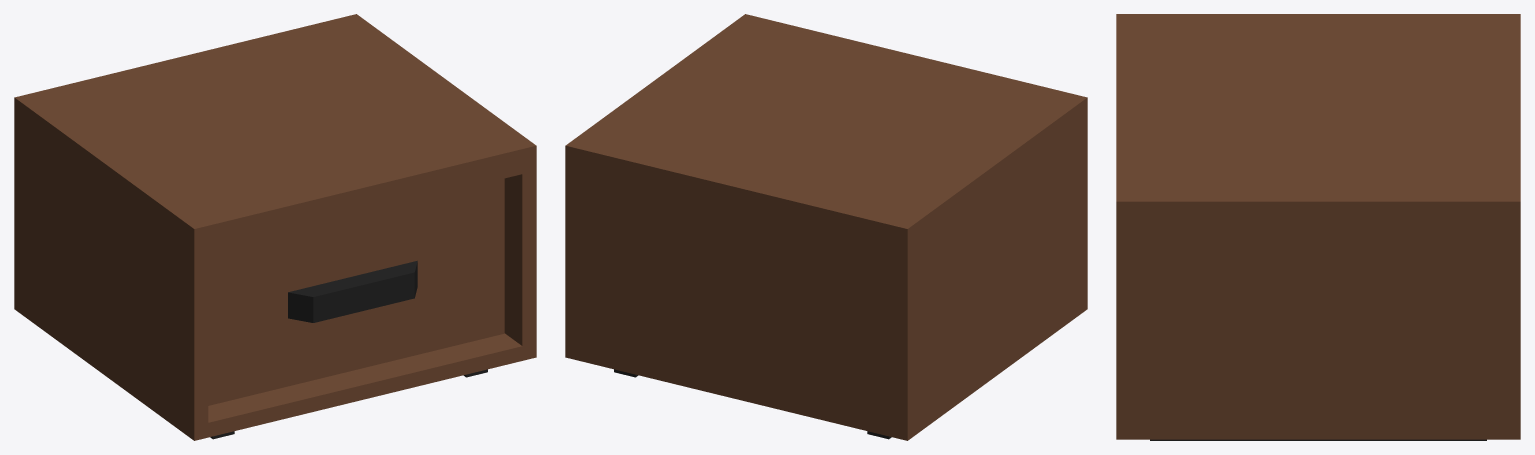
Rendered from drawer_1.glb.
3 views of the same model, side by side, from view 1: azimuth 30°, elevation 25°; view 2: azimuth 150°, elevation 25°; view 3: azimuth 270°, elevation 25° (orthographic). The views are drawn at different scales.
Visible parts, largest first — view 1: Drawer Mini 1 Base, Drawer Mini 1; view 2: Drawer Mini 1 Base; view 3: Drawer Mini 1 Base.
Part boxes in pixels (x1,y1,x2,y2): Drawer Mini 1 Base: (14,14,536,440); Drawer Mini 1: (208,178,504,405); Drawer Mini 1 Base: (565,14,1087,440); Drawer Mini 1 Base: (1116,14,1520,440).
Size of the model in its own units: 0.5311 by 0.3402 by 0.4837.
Materials: 2 (2 with a texture image).
